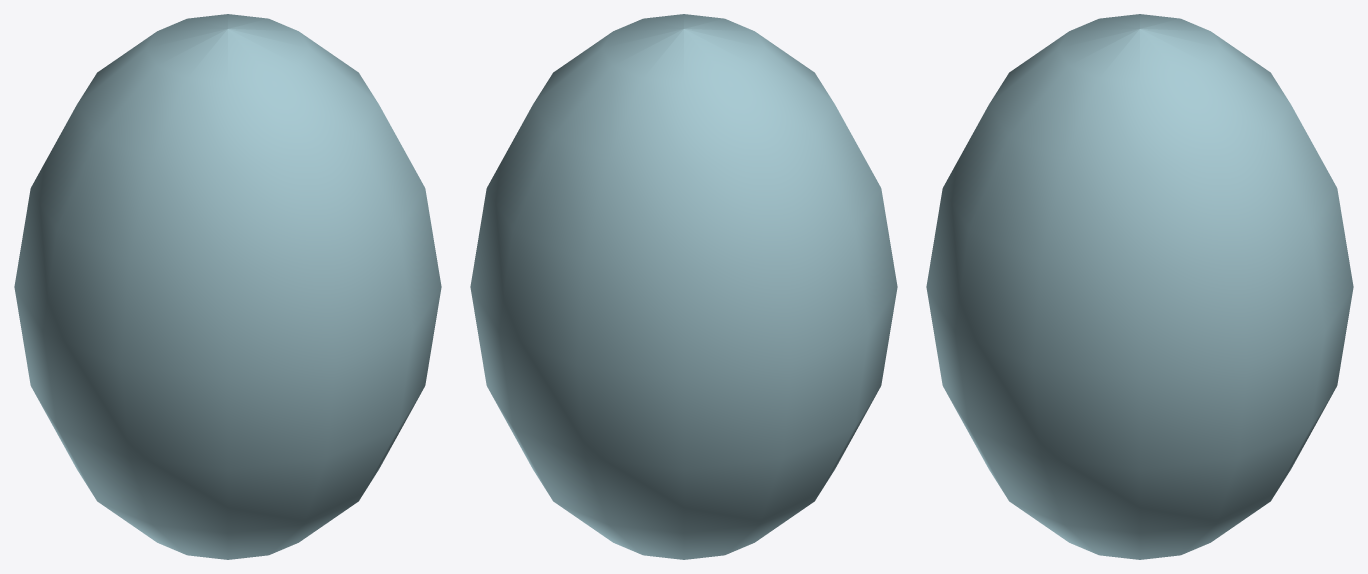
The model's file is drowned_wisp.glb.
The picture shows the model from 3 angles, left to right: view 1: azimuth 30°, elevation 25°; view 2: azimuth 150°, elevation 25°; view 3: azimuth 270°, elevation 25°; orthographic projection.
Visible parts, largest first — view 1: body; view 2: body; view 3: body.
Part boxes in pixels (x1,y1,x2,y2): body: (14,14,441,559); body: (470,14,897,559); body: (926,14,1353,559).
Size of the model in its own units: 0.6 by 0.8 by 0.6.
